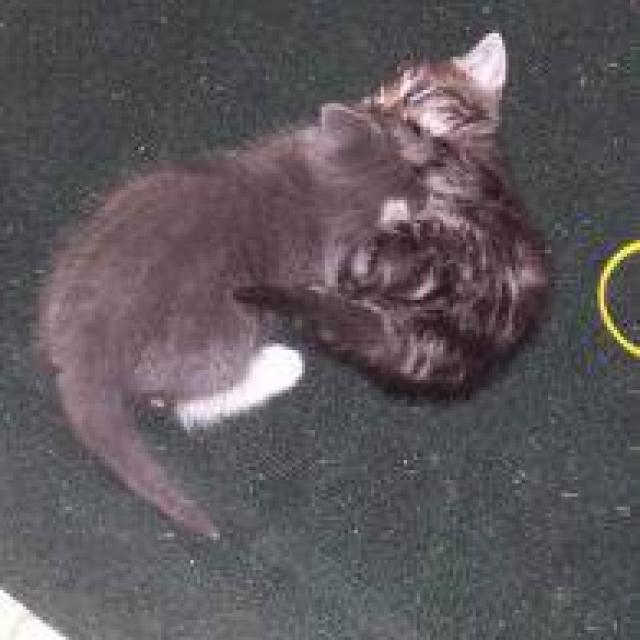cat: (26, 27, 555, 540)
